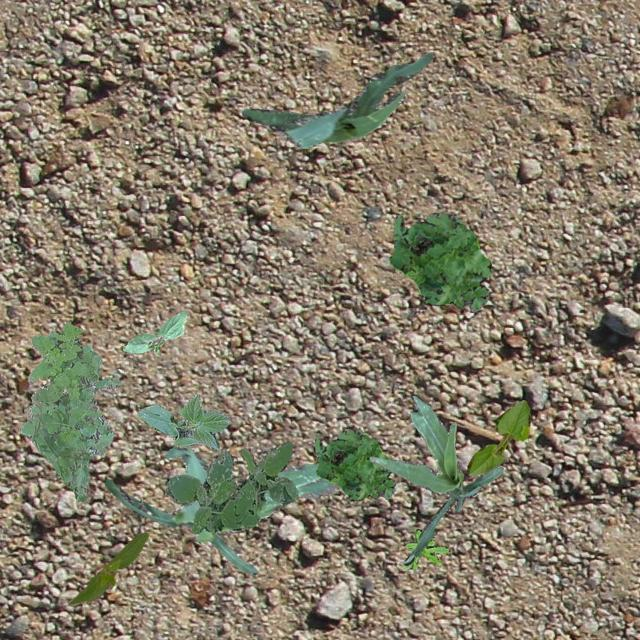crop: (104, 444, 338, 574), (368, 394, 502, 564), (240, 52, 432, 146), (68, 530, 148, 604), (136, 392, 228, 448), (466, 398, 530, 474), (122, 310, 186, 352)
weed: (19, 320, 120, 500), (165, 440, 296, 532), (388, 212, 489, 310), (314, 428, 394, 499), (402, 528, 448, 568)
